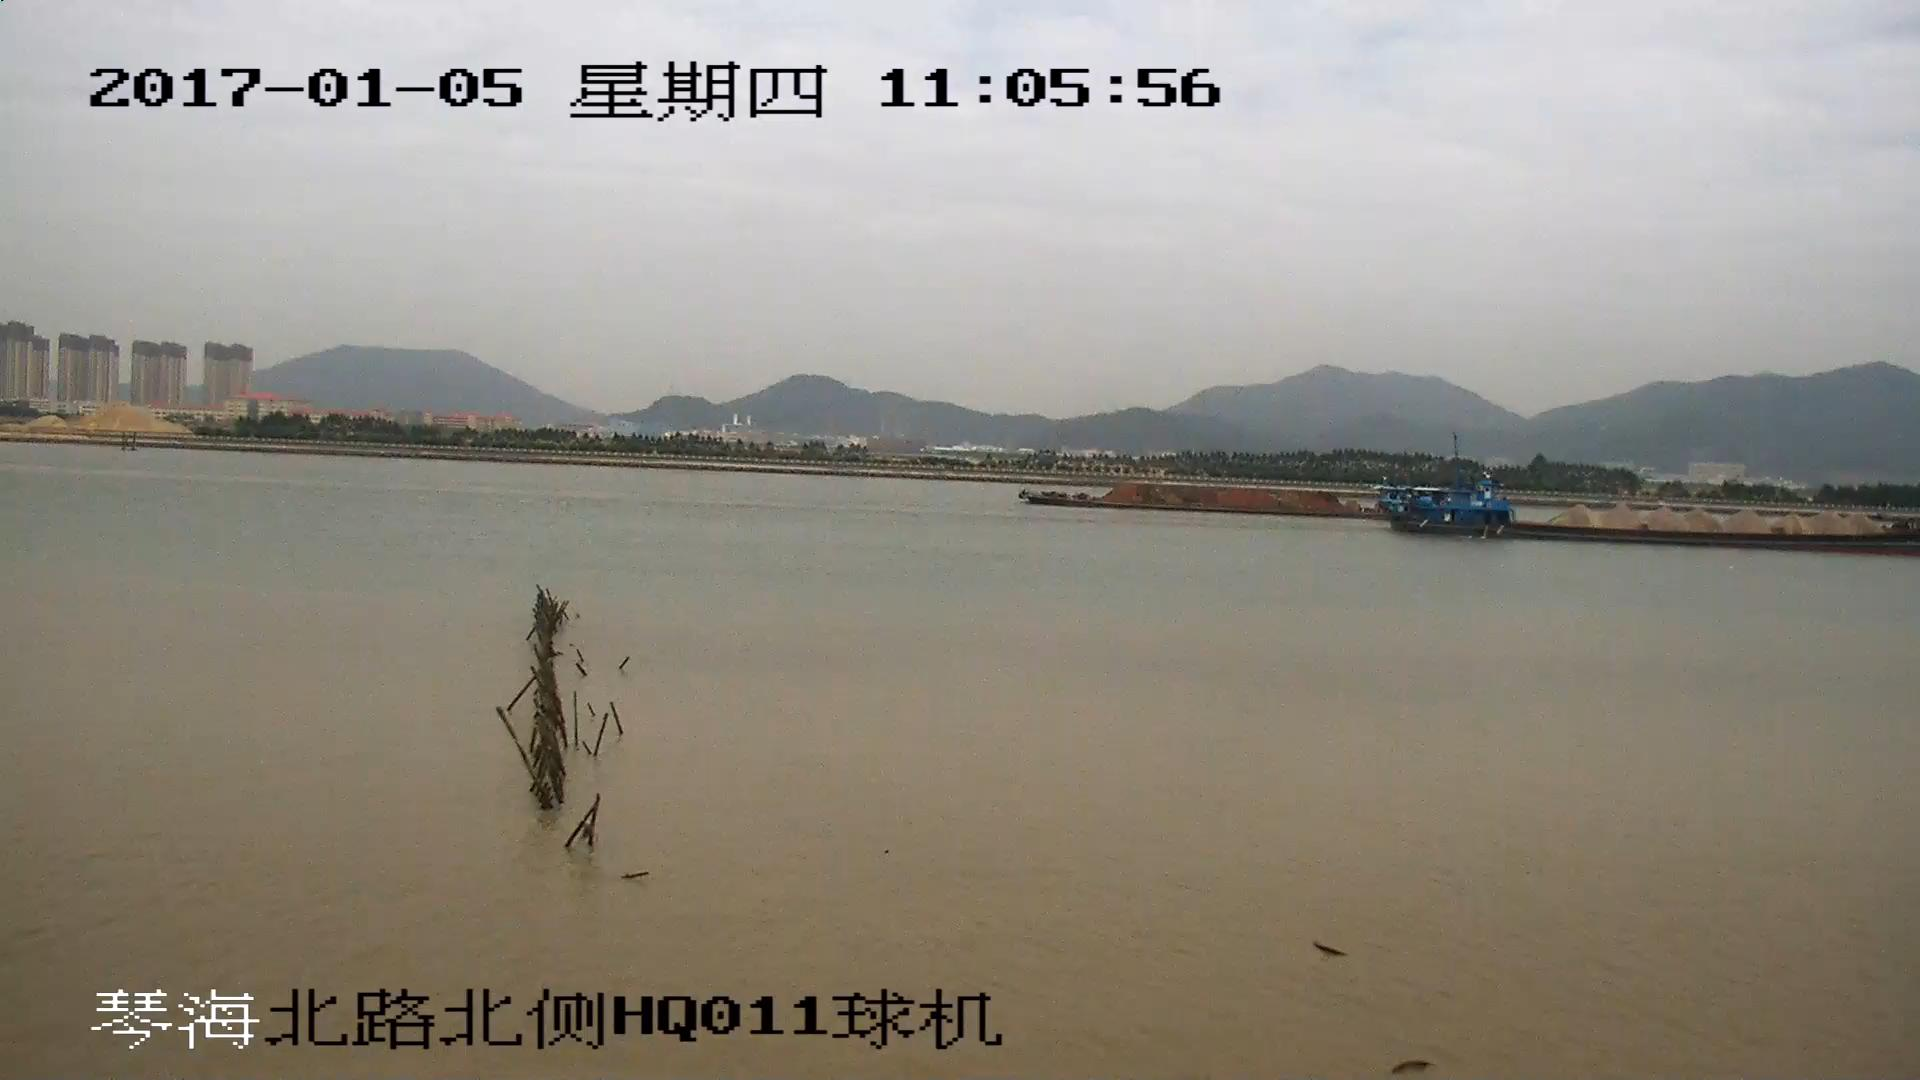ore carrier: (1394, 480, 1920, 541), (1022, 472, 1374, 520)
